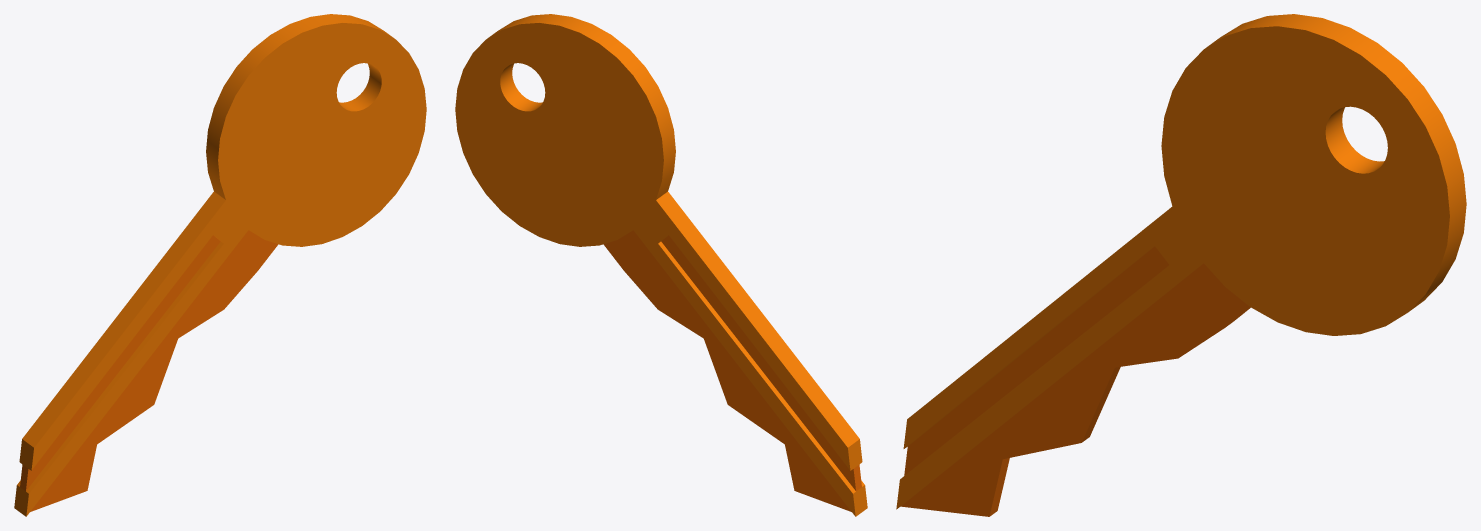
Rendered from key.glb.
The picture shows the model from 3 angles, left to right: view 1: azimuth 30°, elevation 25°; view 2: azimuth 150°, elevation 25°; view 3: azimuth 330°, elevation 25°; orthographic projection. The views are drawn at different scales.
Visible parts, largest first — view 1: key; view 2: key; view 3: key.
Part boxes in pixels (box(x1,y1,x2,y2)): key: box(14, 14, 426, 516); key: box(455, 14, 867, 516); key: box(896, 14, 1466, 516).
Size of the model in its own units: 2.15 by 2.15 by 0.112.
Materials: 1 (1 with a texture image).
